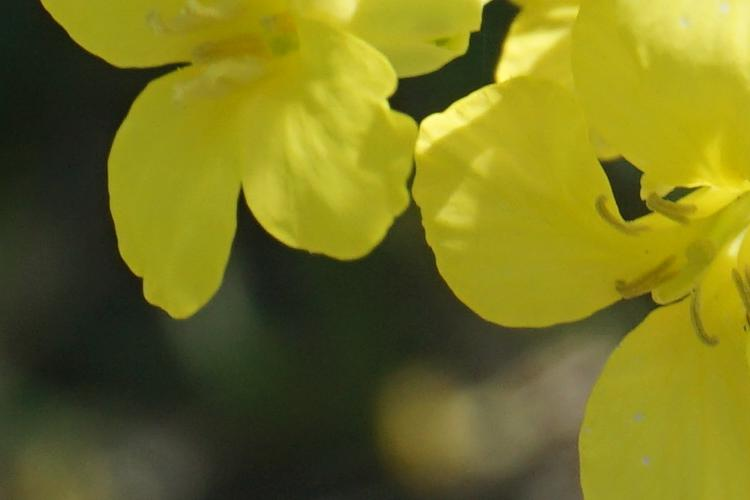yellow: (457, 22, 750, 492), (90, 19, 418, 310)
